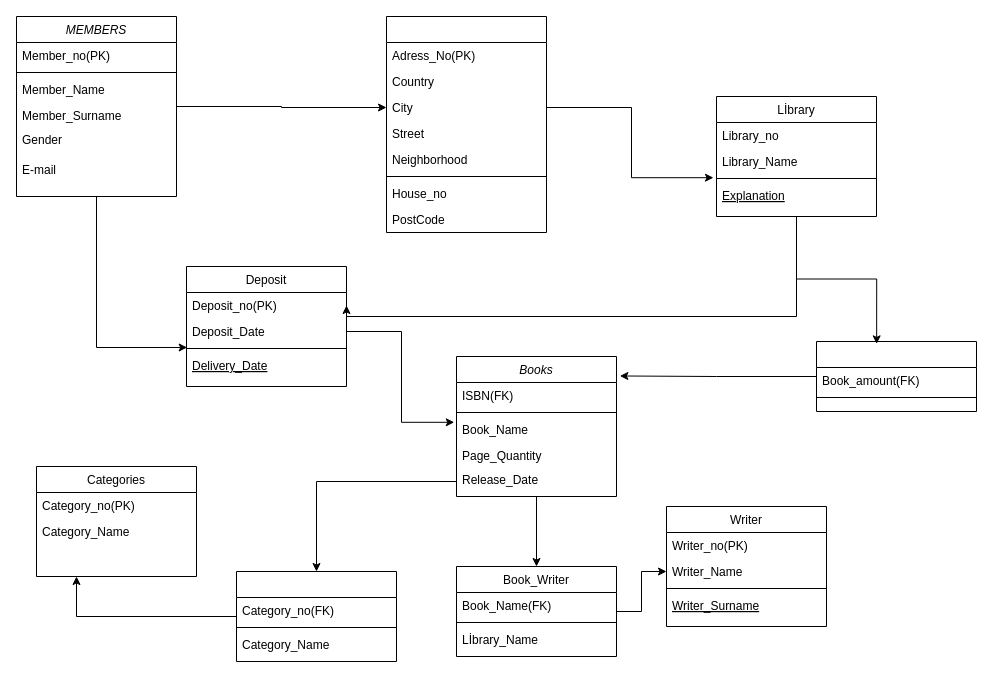
The diagram is 993 pixels wide and 678 high, and some of its shapes have lost their labels. The shapes that lost their labels are listed below. From the top down, each one's box as (x1, y1, x2, y2) in pixels, then its label:
(386, 16, 546, 232): Address
(816, 340, 976, 412): Book_avaliable
(236, 570, 396, 662): Book_Category
